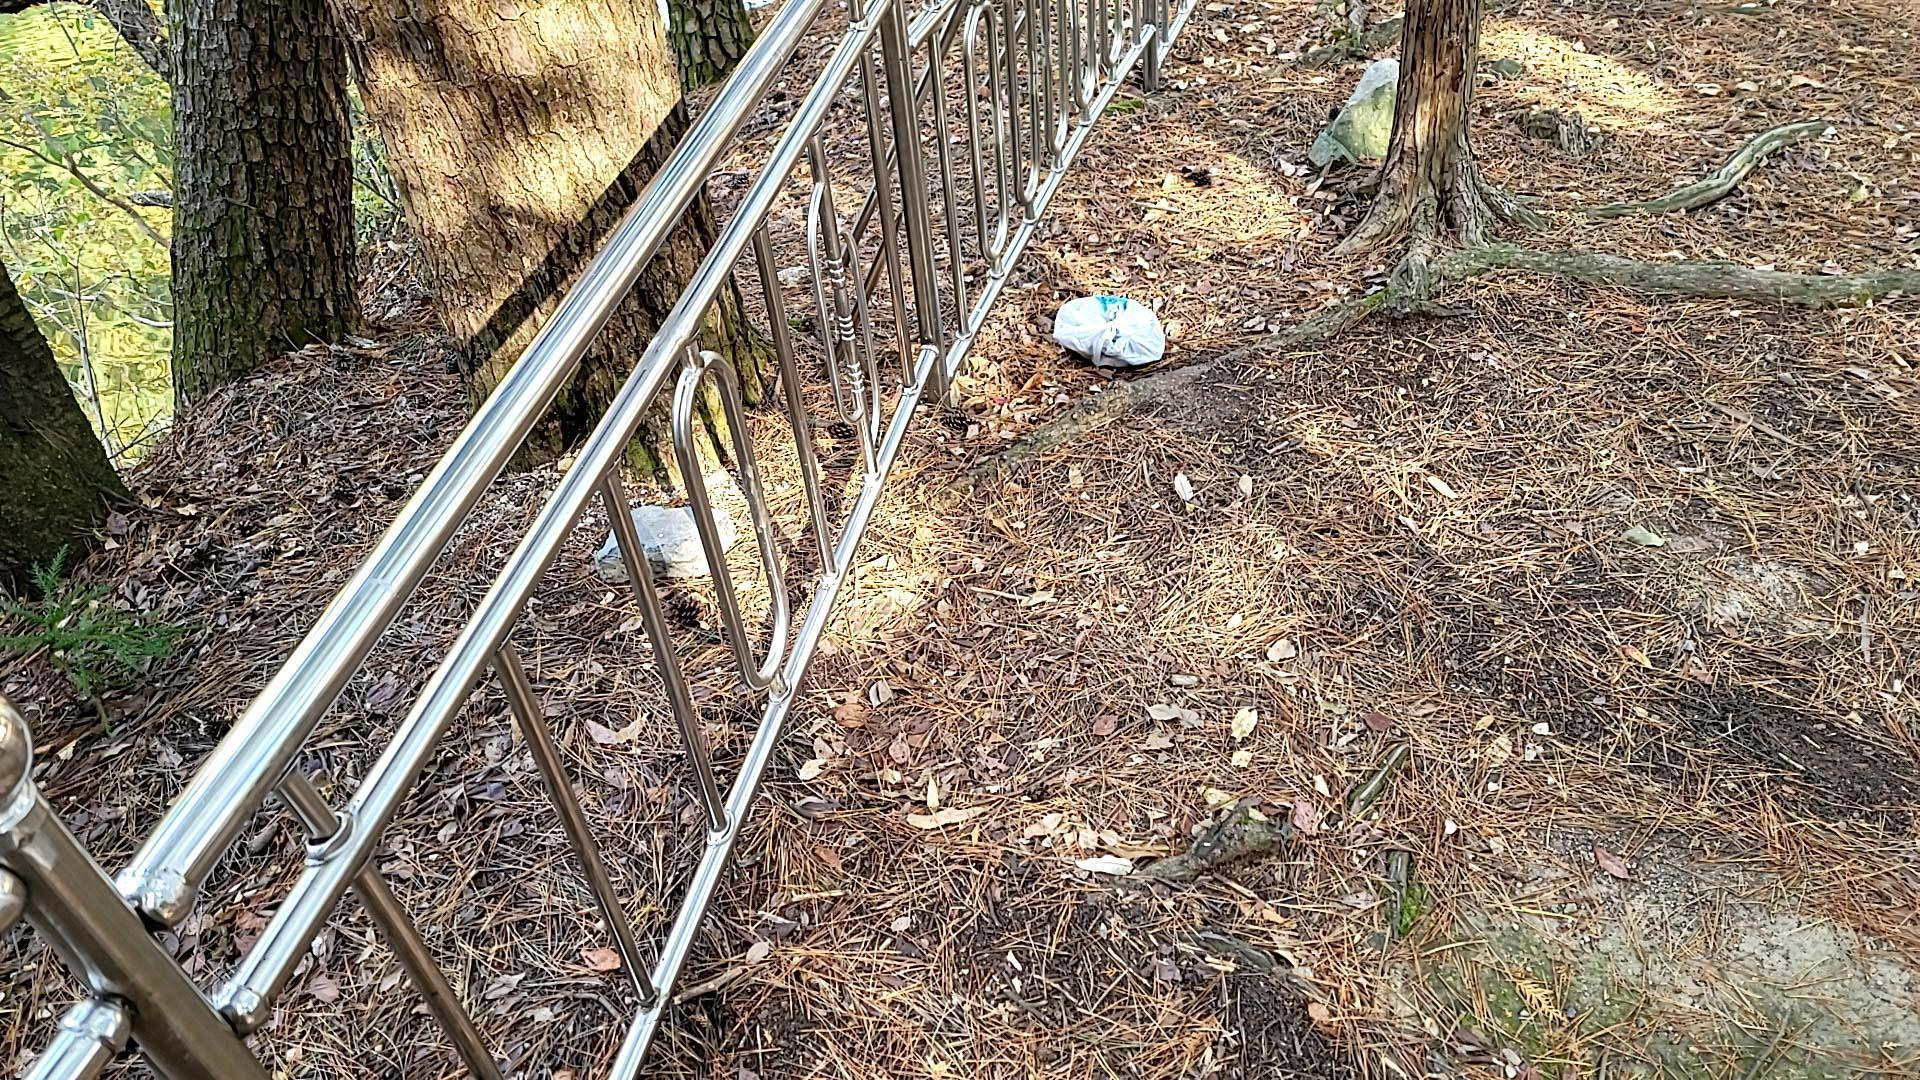white_bag: (1044, 285, 1174, 381)
